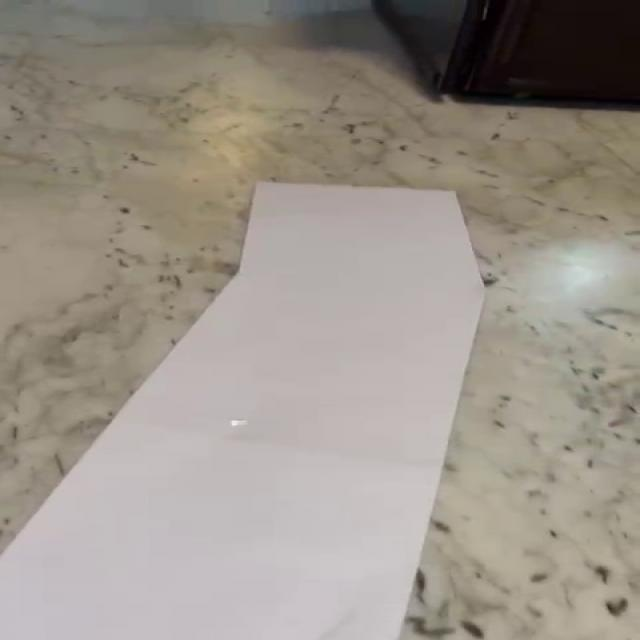road: (2, 184, 484, 640)
